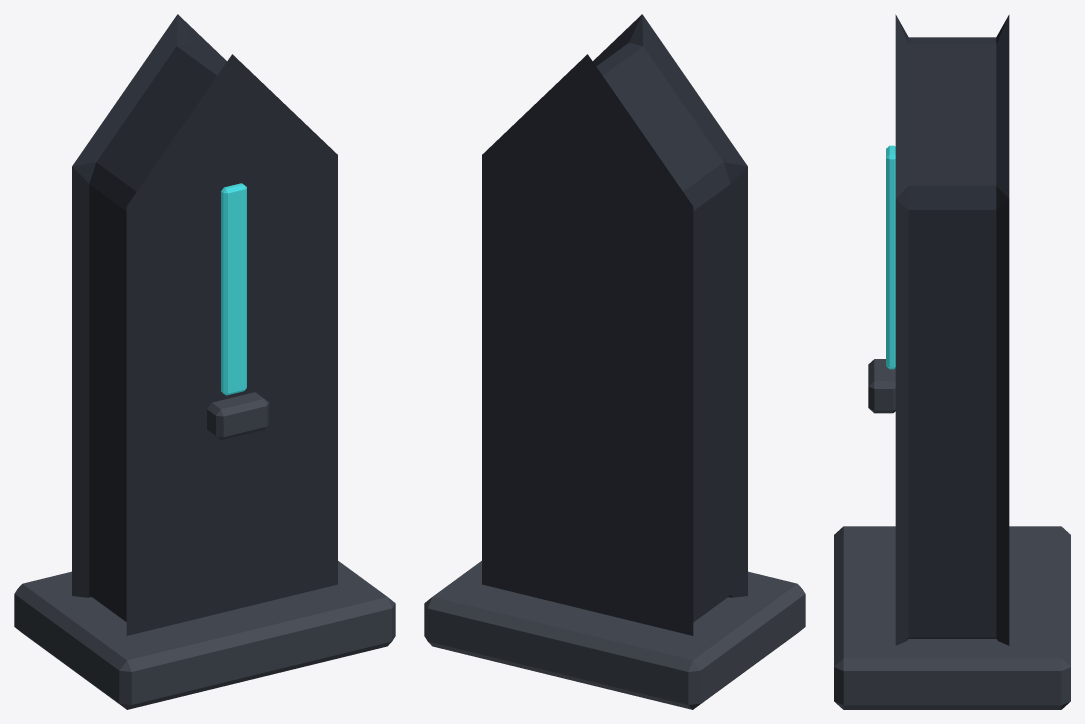
Rendered from memory-stele.glb.
The picture shows the model from 3 angles, left to right: view 1: azimuth 30°, elevation 25°; view 2: azimuth 150°, elevation 25°; view 3: azimuth 270°, elevation 25°; orthographic projection. The views are drawn at different scales.
Visible parts, largest first — view 1: memory-stele; view 2: memory-stele; view 3: memory-stele.
Boxes of the visible parts, x1,y1,x2,y2 form: memory-stele: [14, 14, 395, 709]; memory-stele: [424, 14, 805, 709]; memory-stele: [834, 14, 1070, 709].
Size of the model in its own units: 1.4 by 2.93 by 1.
